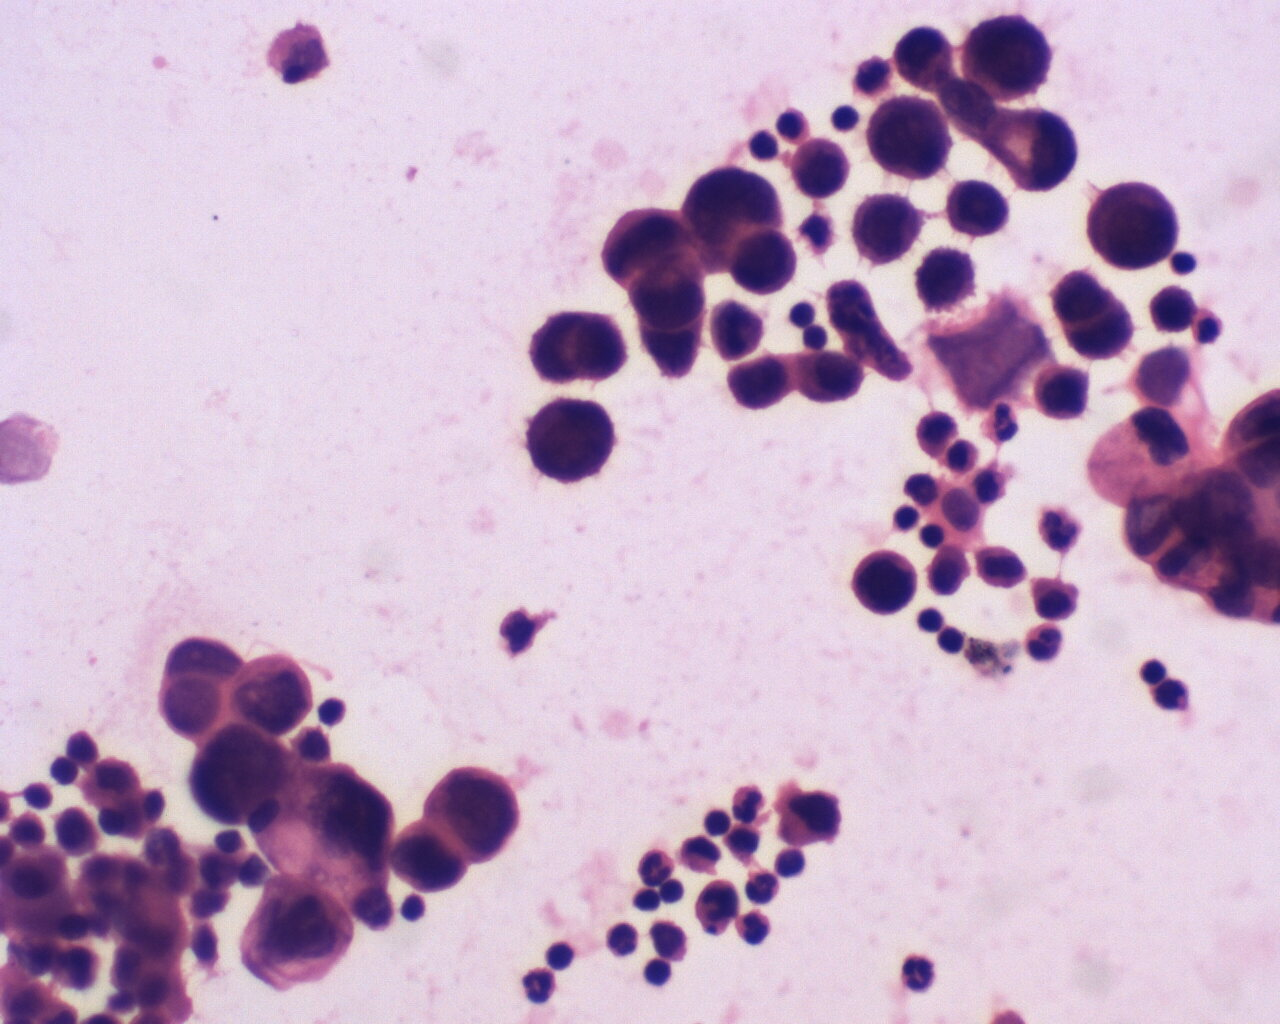ab: (236, 875, 357, 987), (186, 724, 295, 827), (963, 9, 1058, 112), (429, 768, 526, 863), (1087, 176, 1178, 276), (526, 305, 634, 388), (984, 100, 1083, 189), (1048, 266, 1133, 364), (224, 652, 319, 738), (527, 395, 616, 485), (385, 814, 474, 897), (865, 95, 951, 177), (850, 189, 925, 267), (727, 224, 799, 299), (944, 174, 1016, 243), (797, 342, 870, 408), (915, 248, 984, 316), (889, 24, 957, 92), (851, 548, 917, 615), (725, 347, 791, 415), (1031, 362, 1097, 425), (791, 136, 854, 202), (1146, 283, 1195, 339)
lymph: (737, 125, 786, 166), (641, 956, 675, 991)
neutro: (636, 844, 683, 888), (895, 949, 938, 996), (1026, 618, 1069, 664), (726, 783, 770, 827), (520, 965, 564, 1008), (979, 400, 1021, 443), (735, 907, 773, 947)
